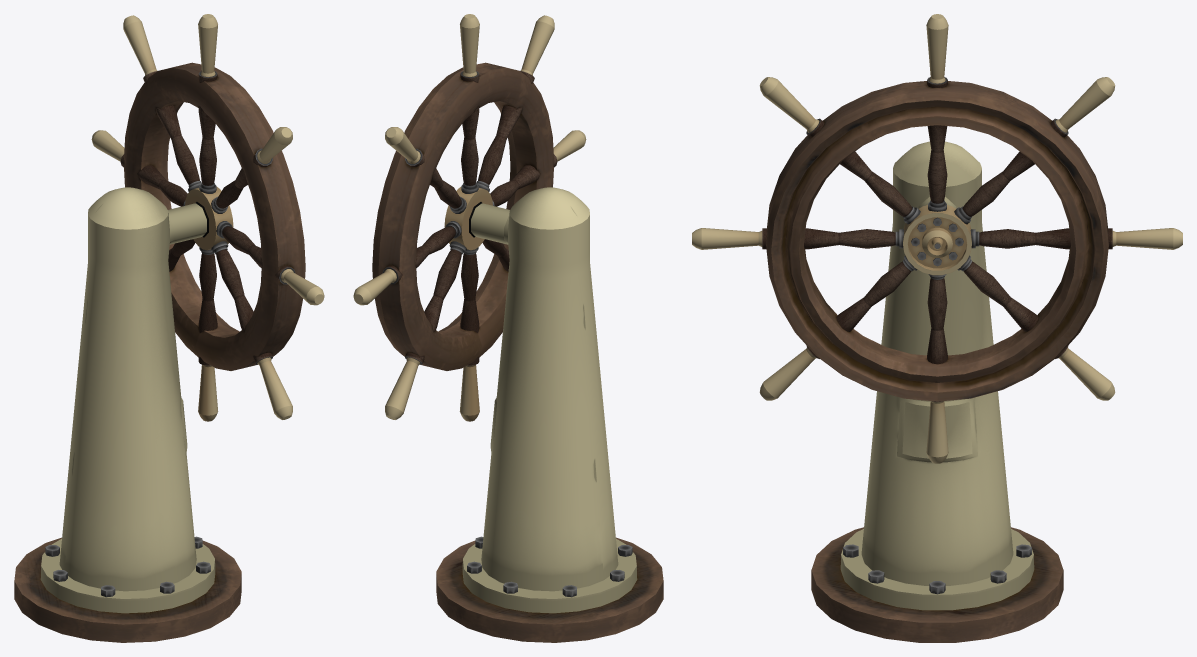
Rendered from old_ship_steering_wheel.glb.
3 views of the same model, side by side, from view 1: azimuth 30°, elevation 25°; view 2: azimuth 150°, elevation 25°; view 3: azimuth 270°, elevation 25° (orthographic). The views are drawn at different scales.
Parts seen in each view (by area): view 1: Circle, Circle.002, Circle.003, Circle.001, Circle.004; view 2: Circle, Circle.002, Circle.003, Circle.001, Circle.004; view 3: Circle, Circle.002, Circle.003, Circle.001, Circle.004.
Boxes of the visible parts, x1=… form: Circle: x1=14, y1=187, x2=241, y2=642; Circle.002: x1=124, y1=62, x2=305, y2=370; Circle.003: x1=91, y1=14, x2=324, y2=421; Circle.001: x1=185, y1=187, x2=233, y2=250; Circle.004: x1=45, y1=536, x2=210, y2=597; Circle: x1=436, y1=187, x2=663, y2=642; Circle.002: x1=372, y1=62, x2=553, y2=370; Circle.003: x1=353, y1=14, x2=586, y2=421; Circle.001: x1=444, y1=187, x2=492, y2=250; Circle.004: x1=467, y1=536, x2=632, y2=597; Circle: x1=811, y1=141, x2=1063, y2=642; Circle.002: x1=766, y1=81, x2=1108, y2=401; Circle.003: x1=692, y1=14, x2=1182, y2=463; Circle.001: x1=903, y1=205, x2=971, y2=275; Circle.004: x1=843, y1=544, x2=1031, y2=594.
Bounding box in the file's own units: 1.33 × 3.55 × 2.56.
Materials: 1 (1 with a texture image).
